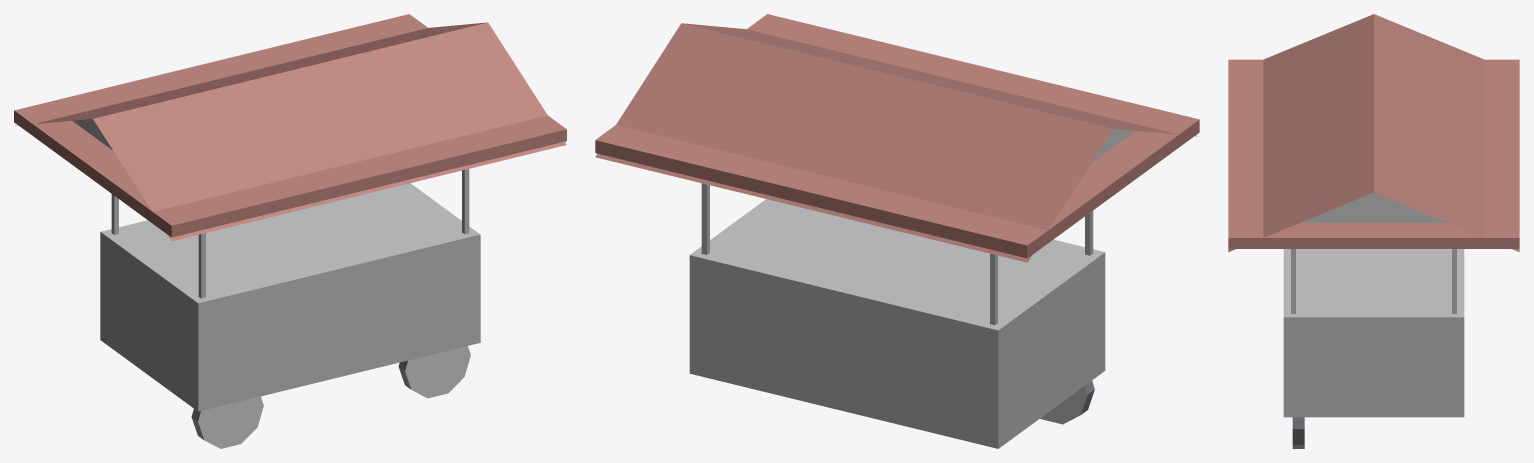
File: 12_food_market-07.glb
3 views of the same model, side by side, from view 1: azimuth 30°, elevation 25°; view 2: azimuth 150°, elevation 25°; view 3: azimuth 270°, elevation 25° (orthographic). The views are drawn at different scales.
Size of the model in its own units: 4.2 by 3.23 by 2.9.
